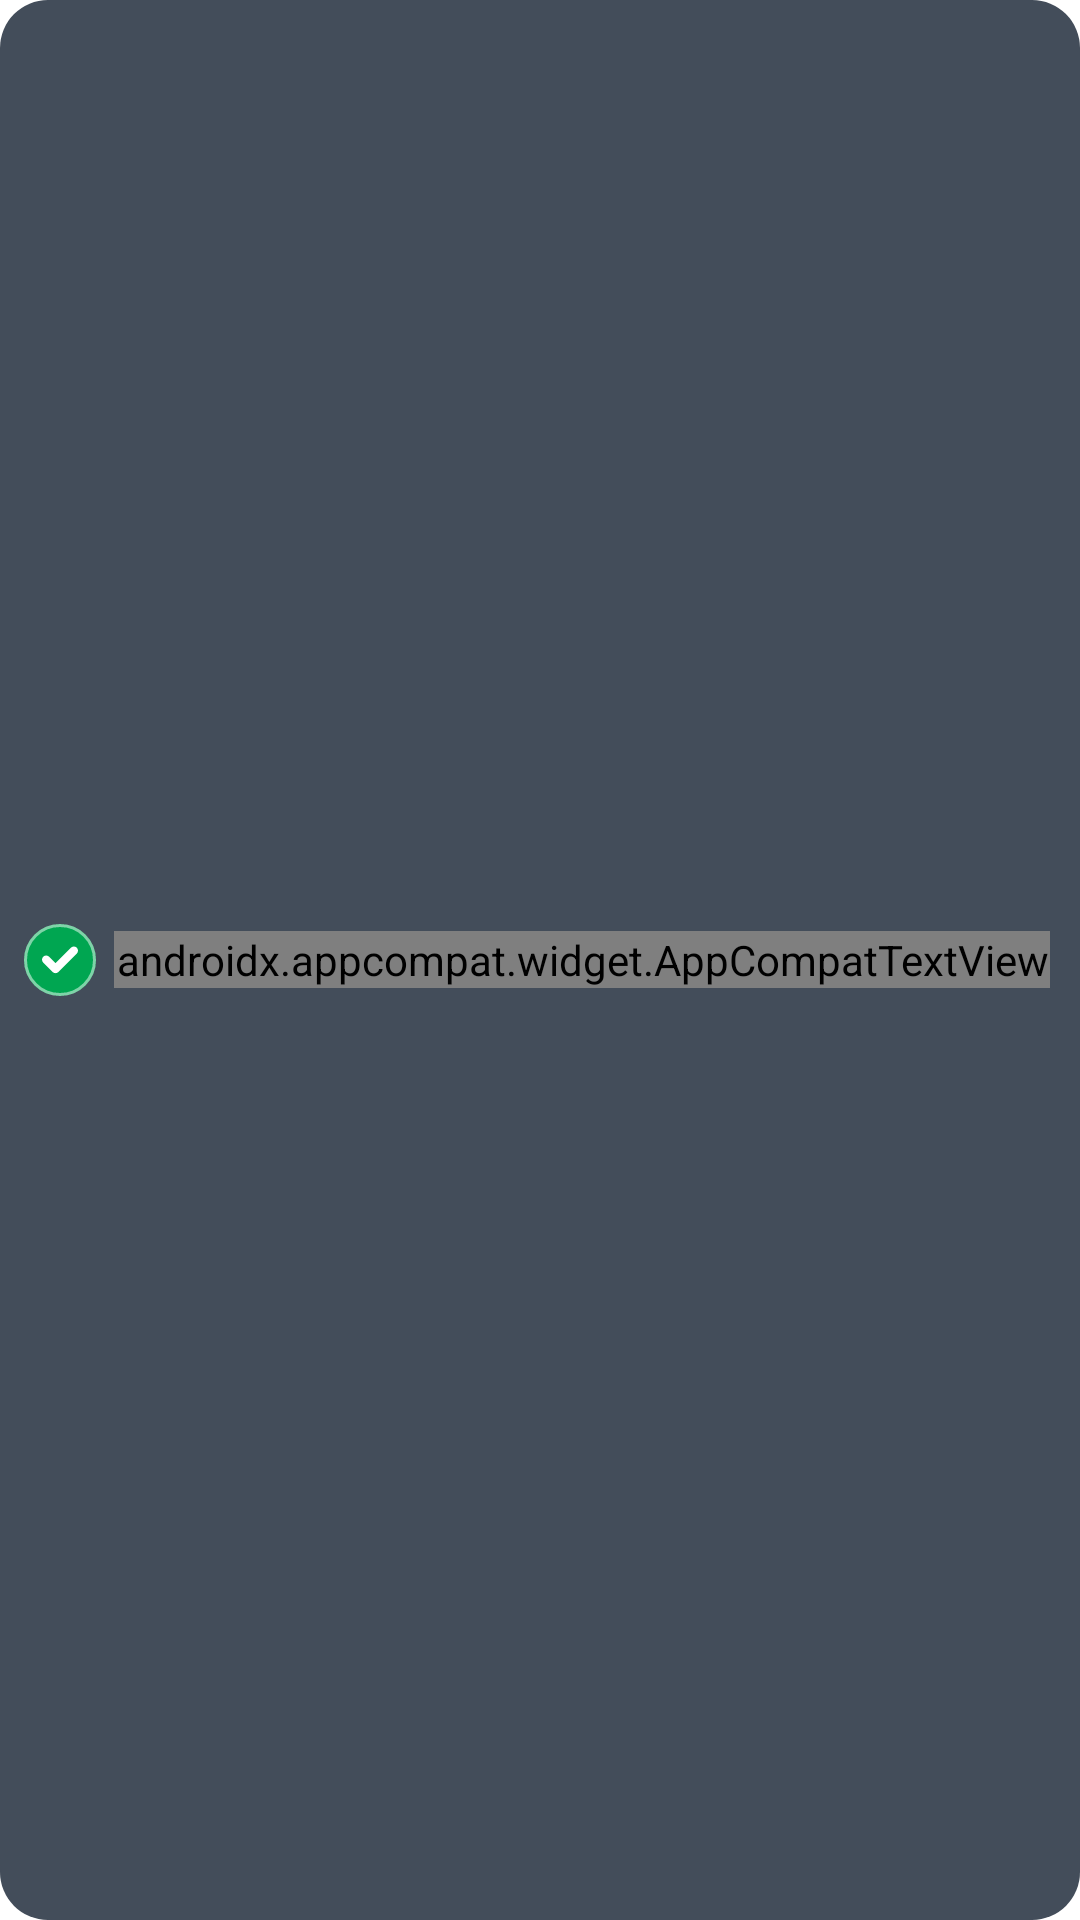

Icon click points for this 1080w x 1920h phone screenshot, format point (x, y):
tick: point (60, 960)
